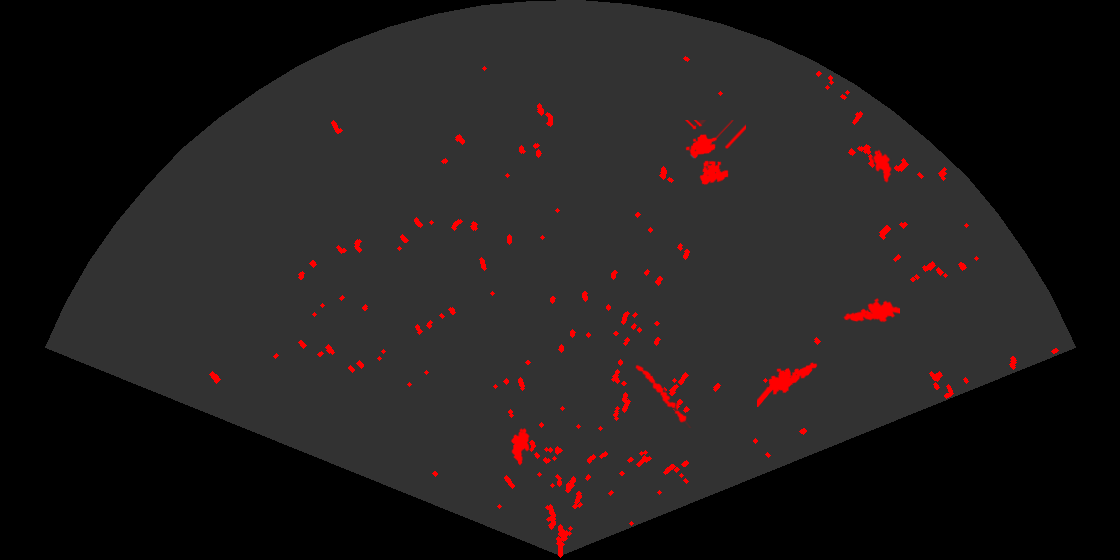AUV: (509, 426, 531, 467), (871, 148, 893, 184)
cage: (683, 120, 746, 186)
chain: (634, 363, 693, 428)
frogman: (757, 361, 819, 407), (842, 296, 900, 324)
